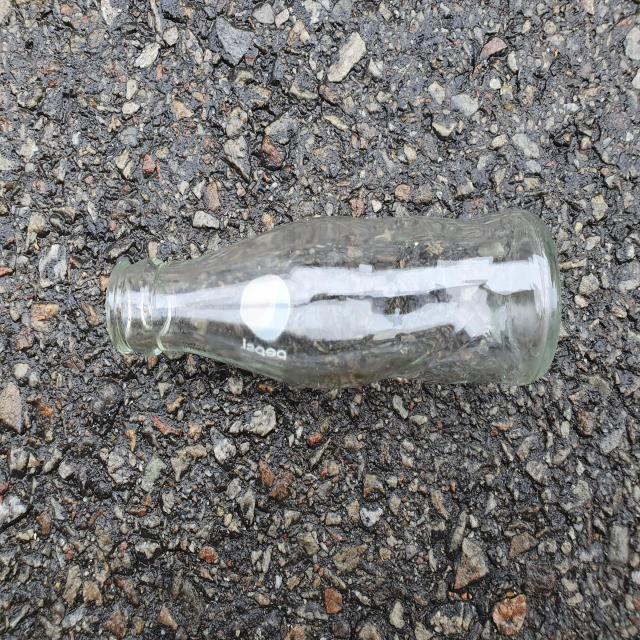glass: (105, 209, 562, 387)
